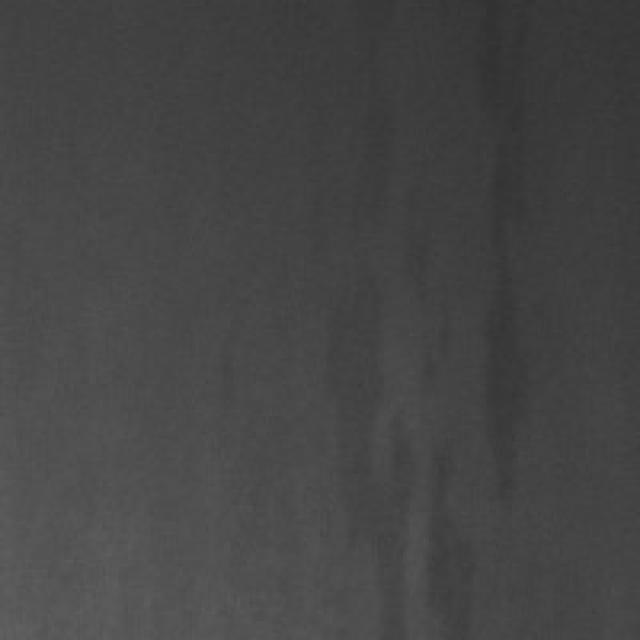inclusion: (333, 26, 454, 624), (470, 0, 557, 531)
